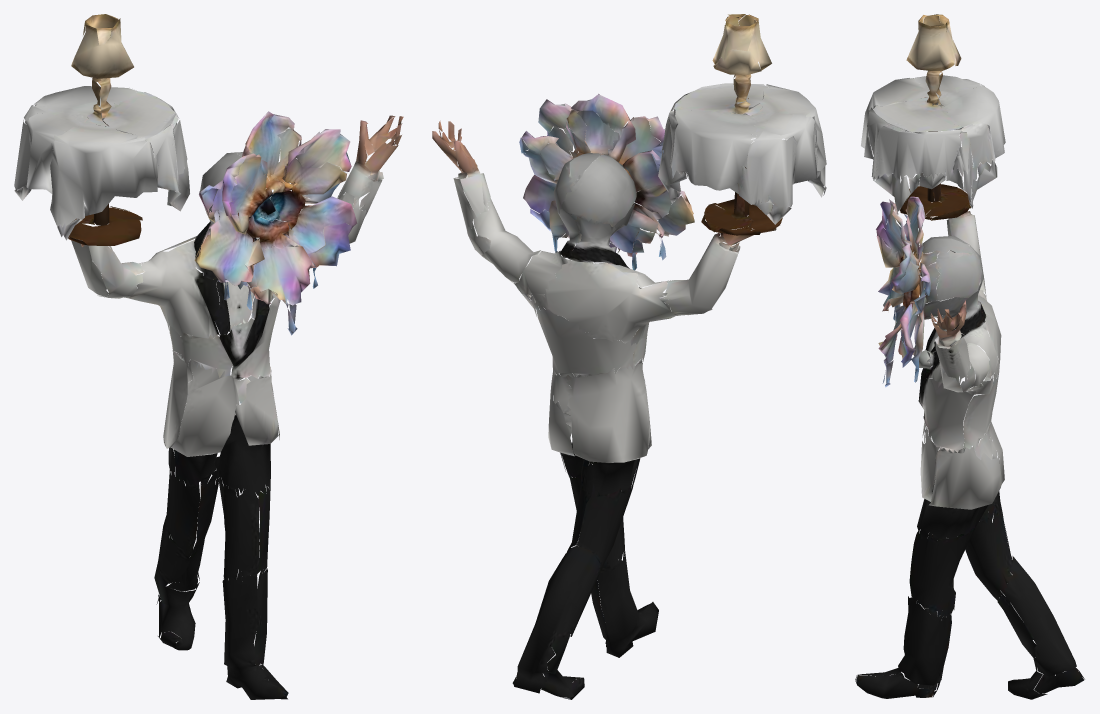
Rendered from crowd_maitre_full.glb.
The picture shows the model from 3 angles, left to right: view 1: azimuth 30°, elevation 25°; view 2: azimuth 150°, elevation 25°; view 3: azimuth 270°, elevation 25°; orthographic projection. The views are drawn at different scales.
Parts seen in each view (by area): view 1: tripo_node_05c4fbca-02c4-4de5-b7a4-4f7adf9fef5e; view 2: tripo_node_05c4fbca-02c4-4de5-b7a4-4f7adf9fef5e; view 3: tripo_node_05c4fbca-02c4-4de5-b7a4-4f7adf9fef5e.
Boxes of the visible parts, x1,y1,x2,y2 form: tripo_node_05c4fbca-02c4-4de5-b7a4-4f7adf9fef5e: [14, 14, 403, 699]; tripo_node_05c4fbca-02c4-4de5-b7a4-4f7adf9fef5e: [432, 14, 826, 699]; tripo_node_05c4fbca-02c4-4de5-b7a4-4f7adf9fef5e: [855, 14, 1084, 699].
Size of the model in its own units: 0.5806 by 1 by 0.3378.
Materials: 1 (1 with a texture image).
